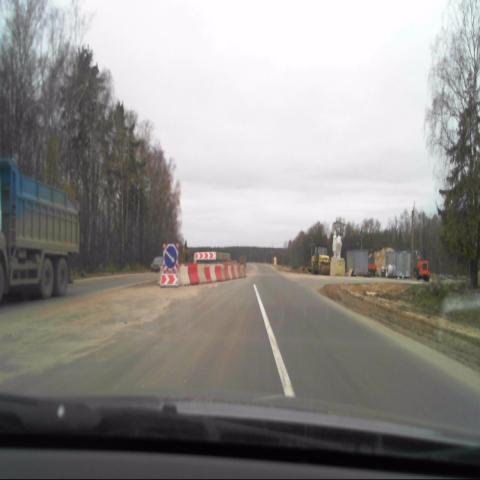4_2_1: (162, 243, 178, 270)
